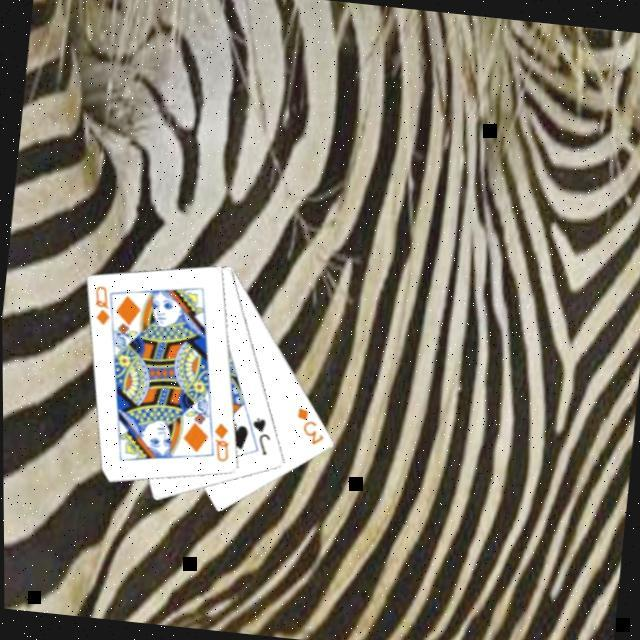3D: (291, 404, 330, 450)
JS: (246, 414, 276, 459)
QD: (89, 282, 117, 329), (208, 419, 235, 466)
